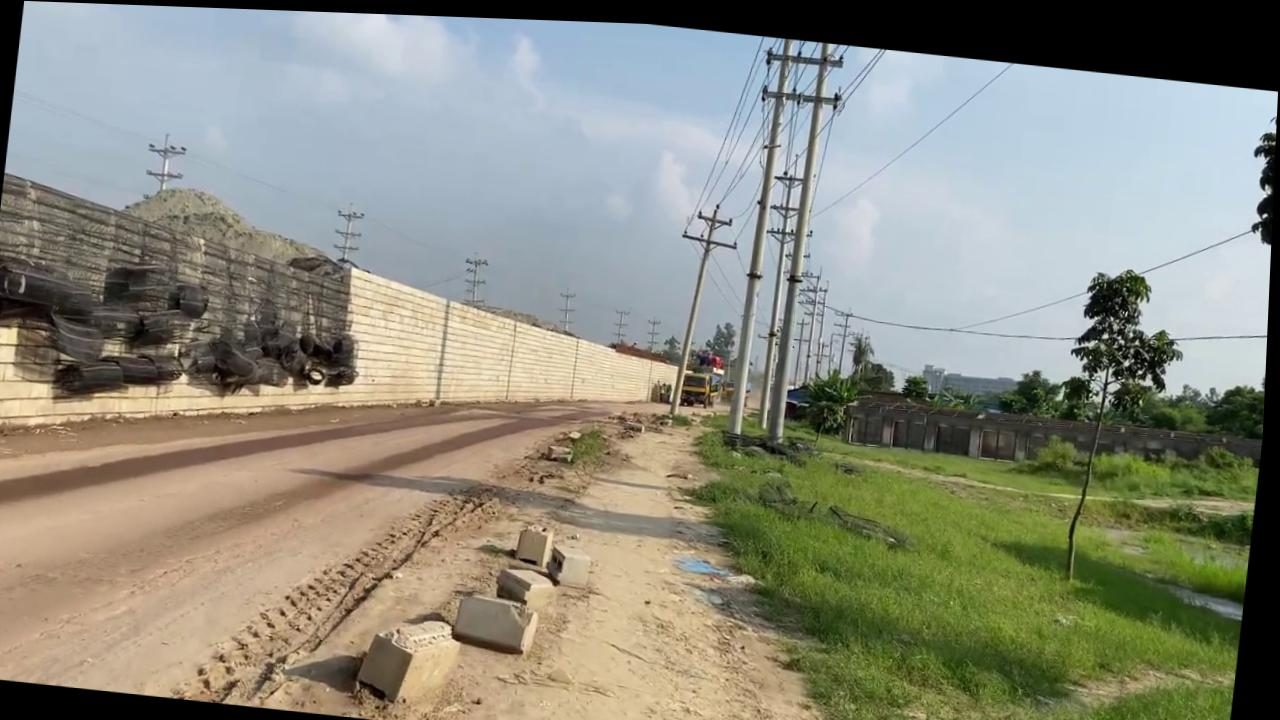Garbage: (0, 245, 369, 420)
Muddy road: (0, 323, 901, 720)
Obstacle: (358, 607, 469, 705), (455, 586, 546, 651), (497, 559, 563, 605), (551, 537, 597, 582), (518, 518, 559, 562), (548, 437, 578, 458)
Pole: (766, 33, 844, 439), (726, 31, 795, 431), (664, 193, 742, 415)
Traffic-sign: (1042, 253, 1194, 580), (1243, 79, 1278, 244)
Tree: (687, 341, 758, 398), (682, 364, 718, 402), (692, 356, 728, 389)
Upstairs: (0, 169, 710, 499)
